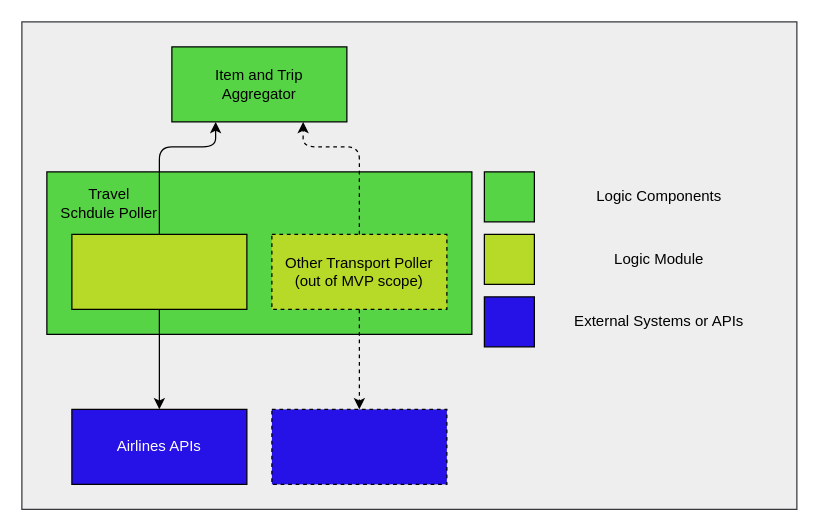
Some shapes in this 819 by 531 pixel diagram are drawn without their labels. The centre of each missing label's shape, as x and y in pixels:
Airlines Poller: the point at 159,271
Other Transport APIs (out of MVP scope): the point at 359,446
